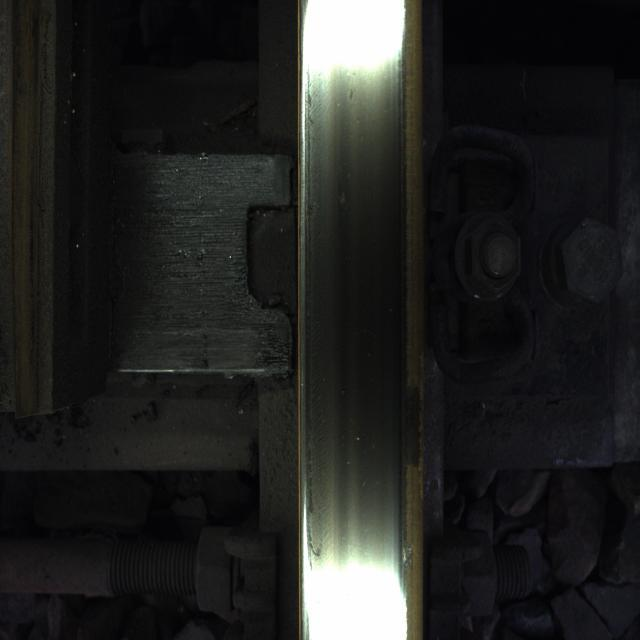break: (314, 29, 396, 620)
